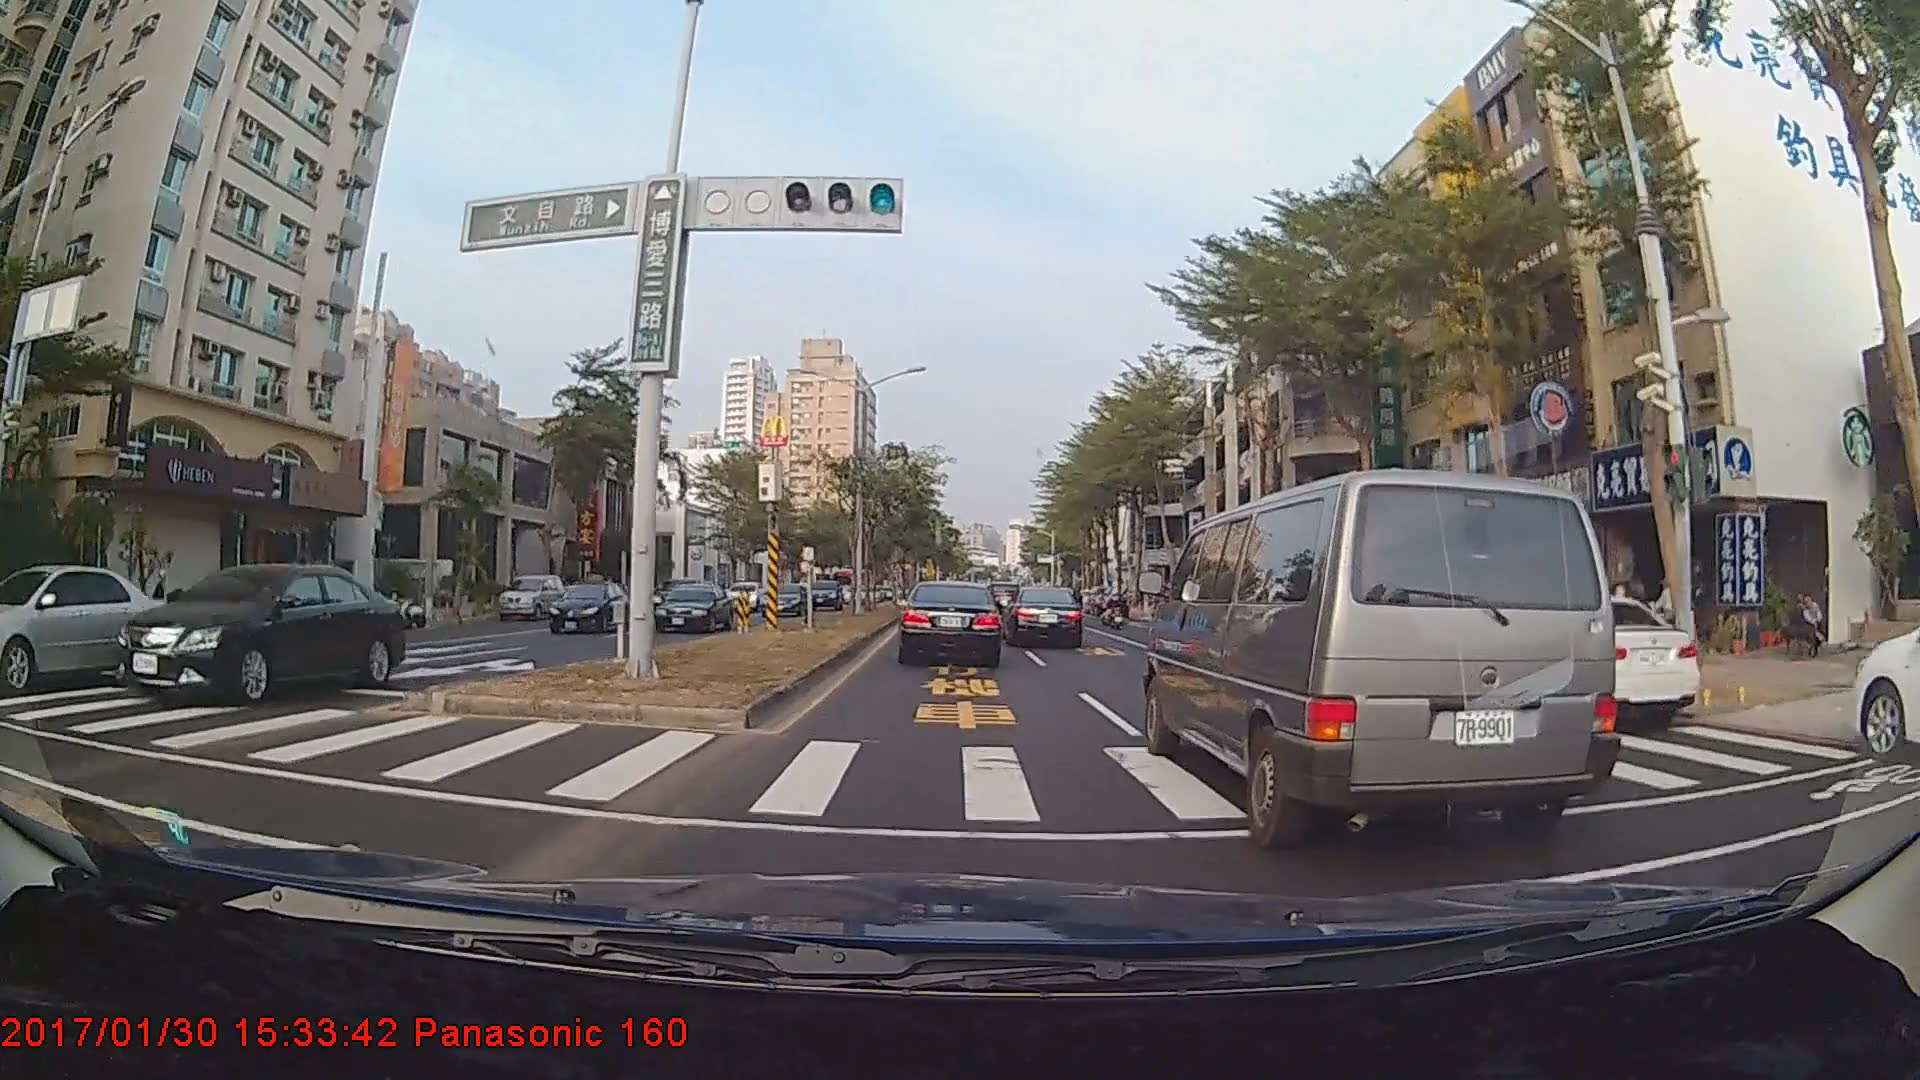vehicle: (1146, 463, 1626, 841), (109, 560, 406, 705), (1433, 576, 1618, 723), (0, 560, 161, 691), (1844, 570, 1917, 764), (899, 582, 1002, 669), (1002, 585, 1084, 649), (546, 580, 630, 633), (650, 582, 731, 632), (496, 572, 566, 620), (760, 582, 807, 615), (804, 576, 843, 609)
